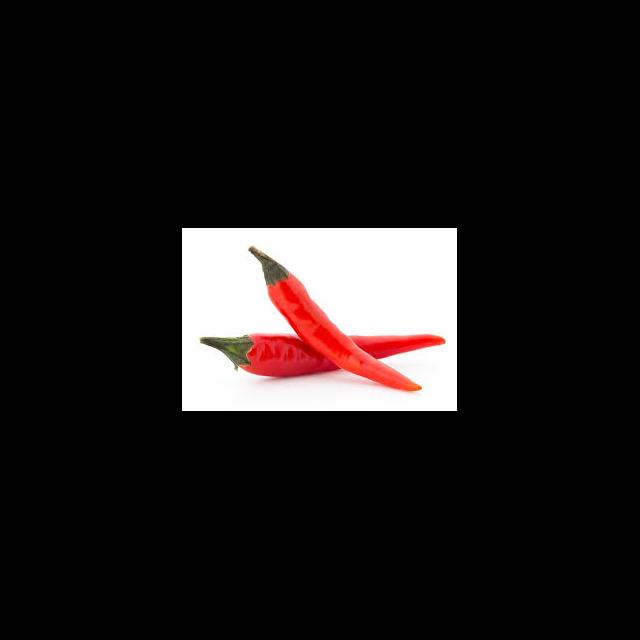chili_pepper: (264, 243, 446, 369)
